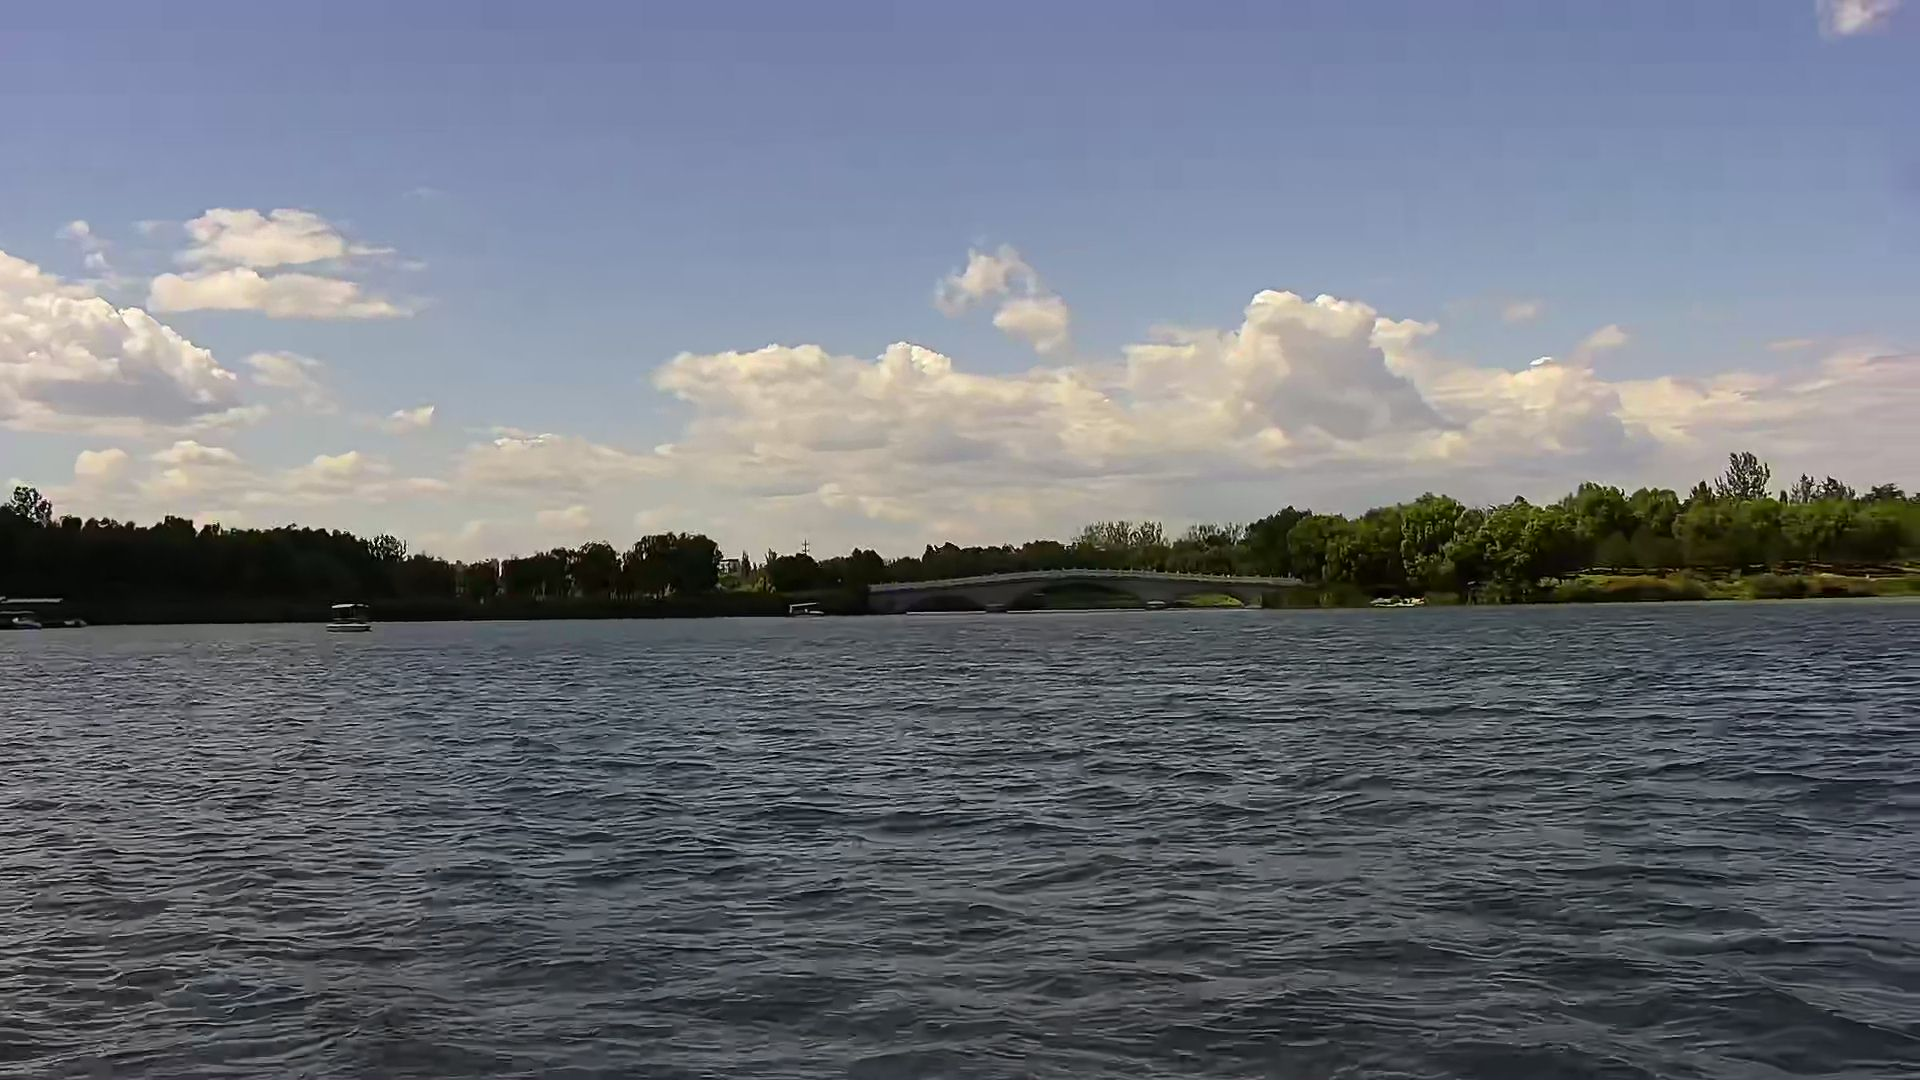boat: (320, 597, 378, 640)
bridge: (870, 566, 1321, 616)
harbor: (1, 599, 80, 633)
